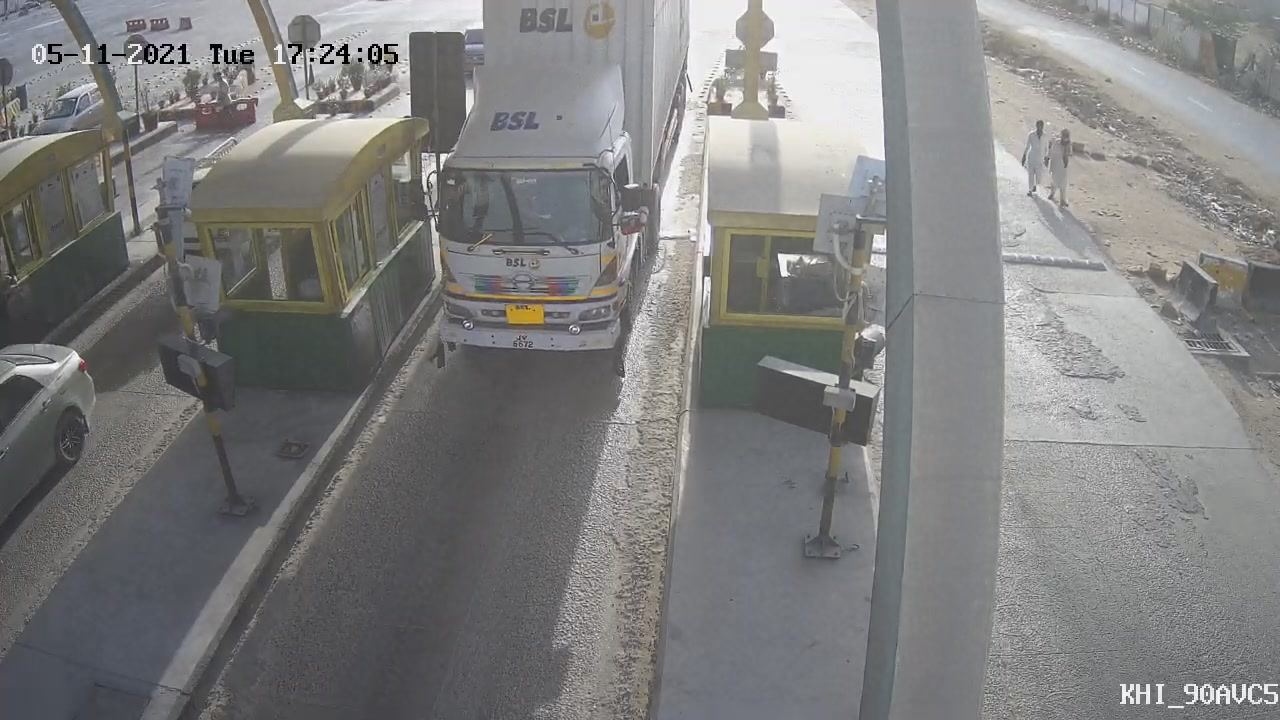F6: (377, 1, 701, 396)
